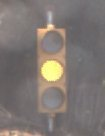Yellow: (32, 27, 69, 112)
